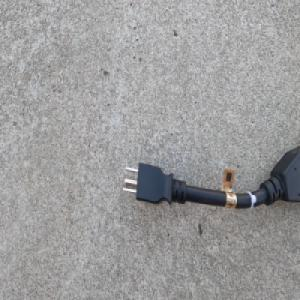Wire: (120, 143, 300, 211)
